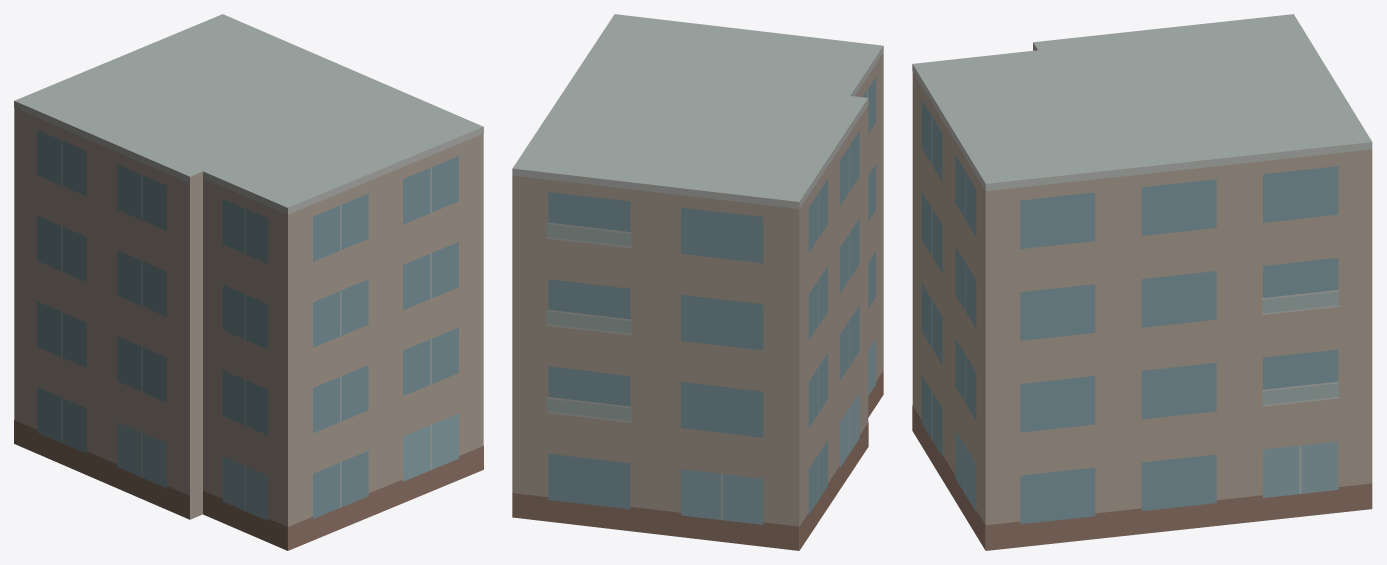
File: survey-upis-33006815.glb
3 views of the same model, side by side, from view 1: azimuth 30°, elevation 25°; view 2: azimuth 150°, elevation 25°; view 3: azimuth 270°, elevation 25° (orthographic). The views are drawn at different scales.
Parts seen in each view (by area): view 1: survey-upis-33006815.tmp; view 2: survey-upis-33006815.tmp; view 3: survey-upis-33006815.tmp.
Part boxes in pixels (x1,y1,x2,y2): survey-upis-33006815.tmp: [14, 14, 483, 550]; survey-upis-33006815.tmp: [512, 14, 883, 550]; survey-upis-33006815.tmp: [912, 14, 1372, 550].
Size of the model in its own units: 12.13 by 12.2 by 13.87.
